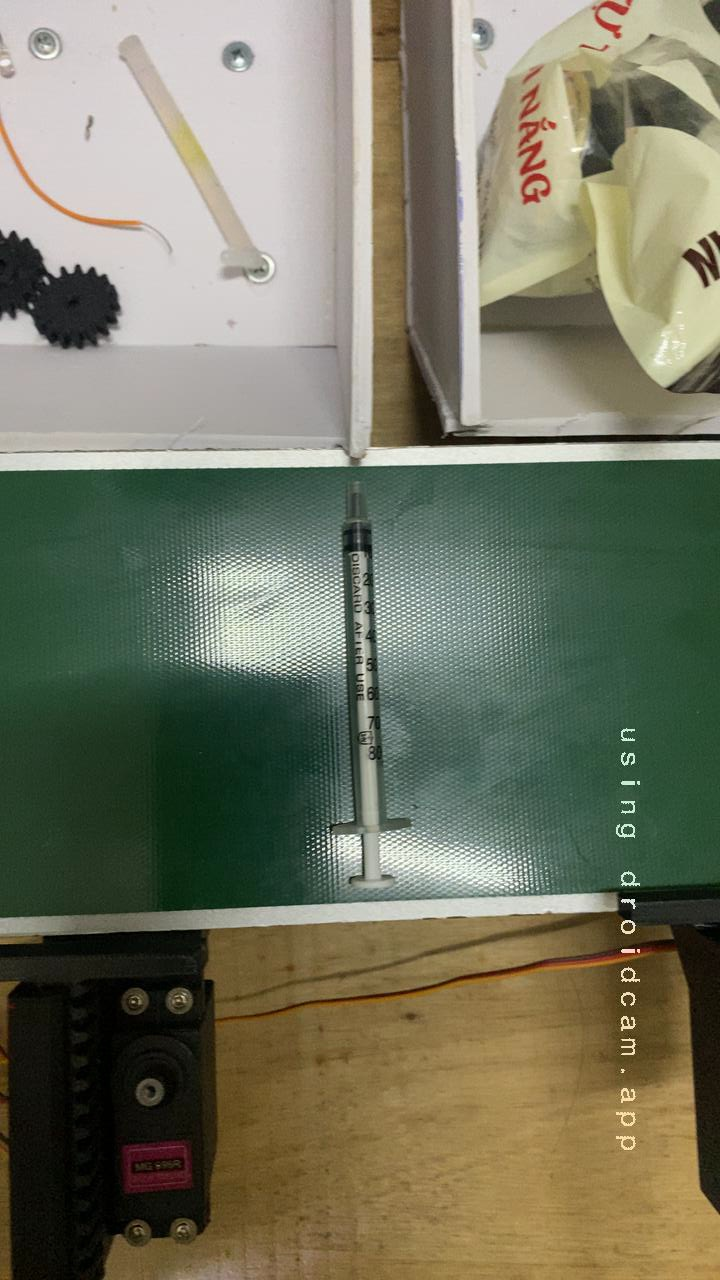syringe: (276, 516, 419, 849)
